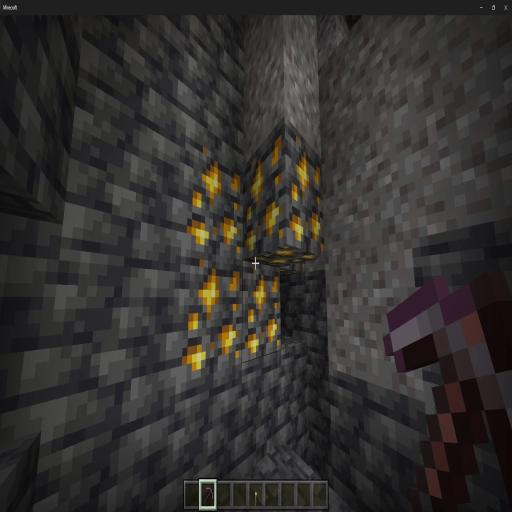gold ore: (180, 138, 328, 387)
